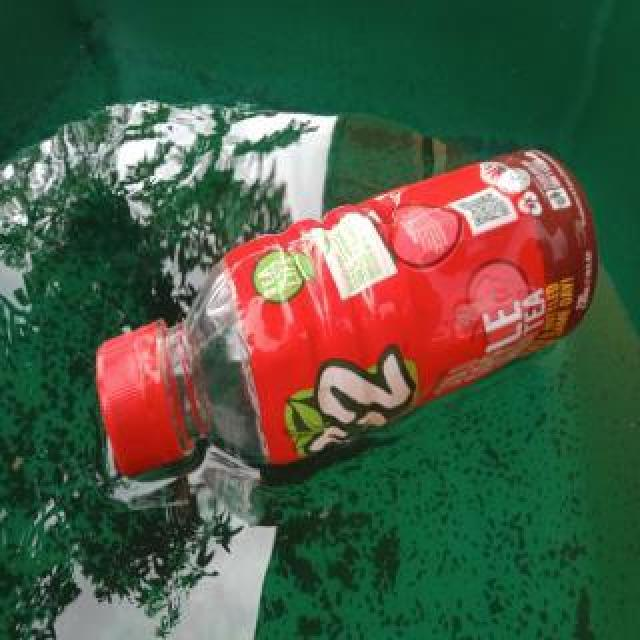bottle: (94, 146, 600, 482)
